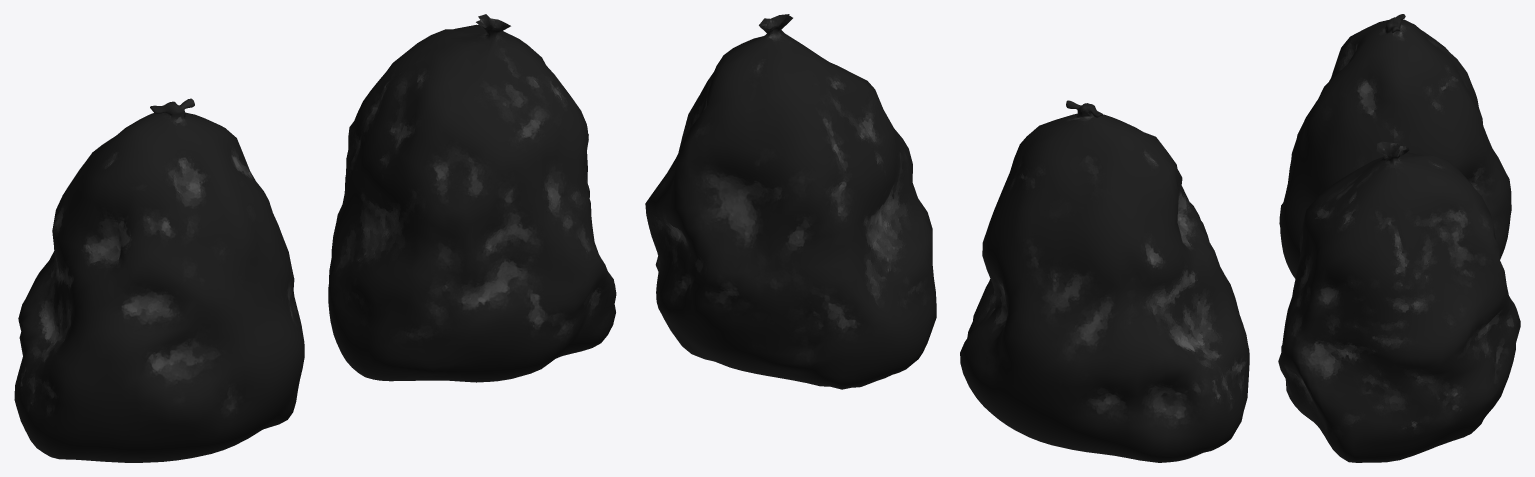
Rendered from bin_liners__refuse_sack.glb.
3 renders of one model, left to right at view 1: azimuth 30°, elevation 25°; view 2: azimuth 150°, elevation 25°; view 3: azimuth 270°, elevation 25°, orthographic. The views are drawn at different scales.
Parts seen in each view (by area): view 1: SM_binBag1#, SM_binBag2; view 2: SM_binBag1#, SM_binBag2; view 3: SM_binBag1#, SM_binBag2.
Part boxes in pixels (bbox=[...]): SM_binBag1#: bbox=[328, 14, 616, 382]; SM_binBag2: bbox=[14, 98, 304, 462]; SM_binBag1#: bbox=[645, 14, 936, 389]; SM_binBag2: bbox=[960, 100, 1249, 462]; SM_binBag1#: bbox=[1278, 141, 1520, 462]; SM_binBag2: bbox=[1279, 14, 1511, 278].
Bounding box in the file's own units: 400 × 229 × 172.
Materials: 1 (1 with a texture image).
